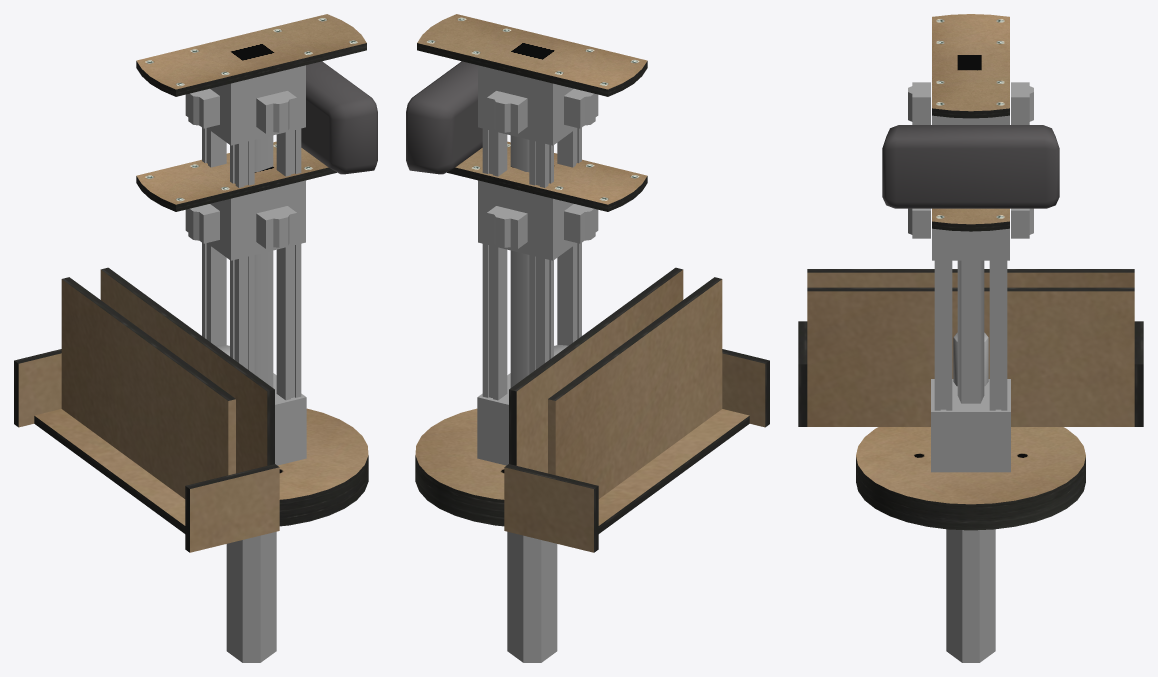
The model's file is Body_ROBOTINO_B.dae.
3 renders of one model, left to right at view 1: azimuth 30°, elevation 25°; view 2: azimuth 150°, elevation 25°; view 3: azimuth 270°, elevation 25°, orthographic.
Parts seen in each view (by area): view 1: Body_low_poly; view 2: Body_low_poly; view 3: Body_low_poly.
Boxes of the visible parts, x1,y1,x2,y2 form: Body_low_poly: (14,14,377,662); Body_low_poly: (406,14,769,662); Body_low_poly: (798,14,1143,662).
Bounding box in the file's own units: 0.3217 × 0.39 × 0.736.
3 materials, 1 textured.
